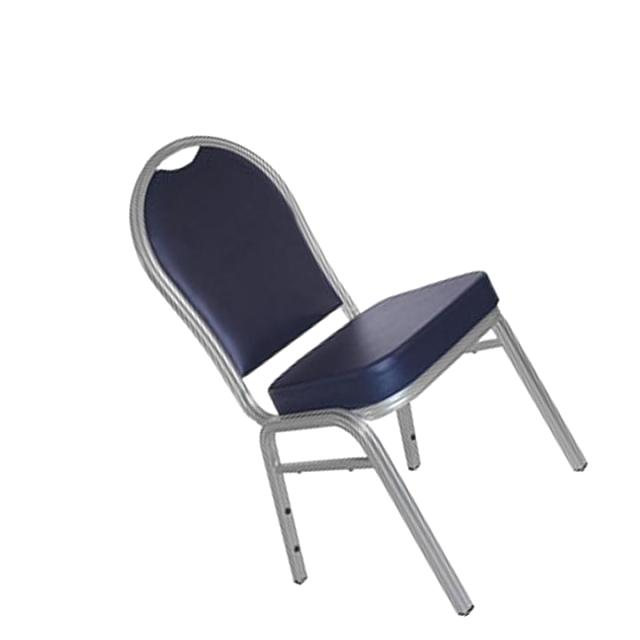Chair: (127, 129, 592, 623)
